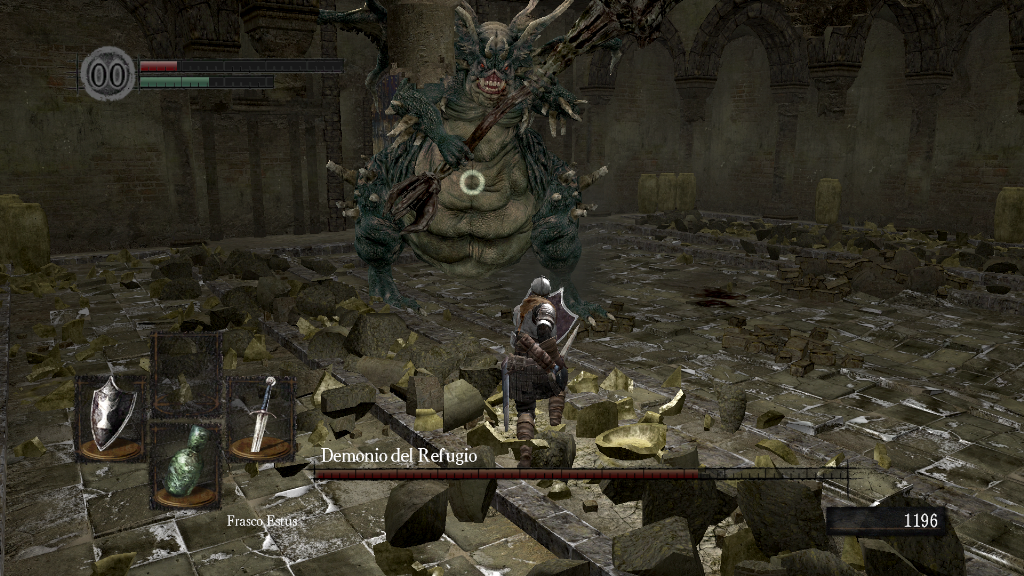asylumDemon: (316, 2, 668, 336)
bossHP: (314, 469, 847, 479)
health: (138, 58, 343, 71)
humanity: (80, 45, 136, 102)
player: (500, 274, 580, 467)
souls: (825, 506, 945, 536)
stamina: (138, 74, 274, 88)
